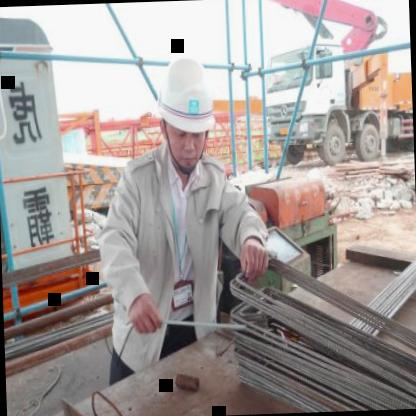helmet: (155, 46, 219, 172)
